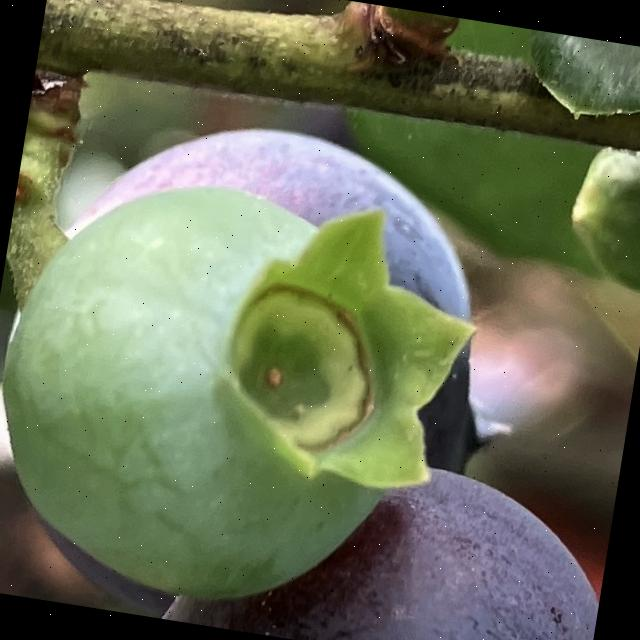Blueberries: (0, 150, 484, 637), (141, 423, 616, 640)
